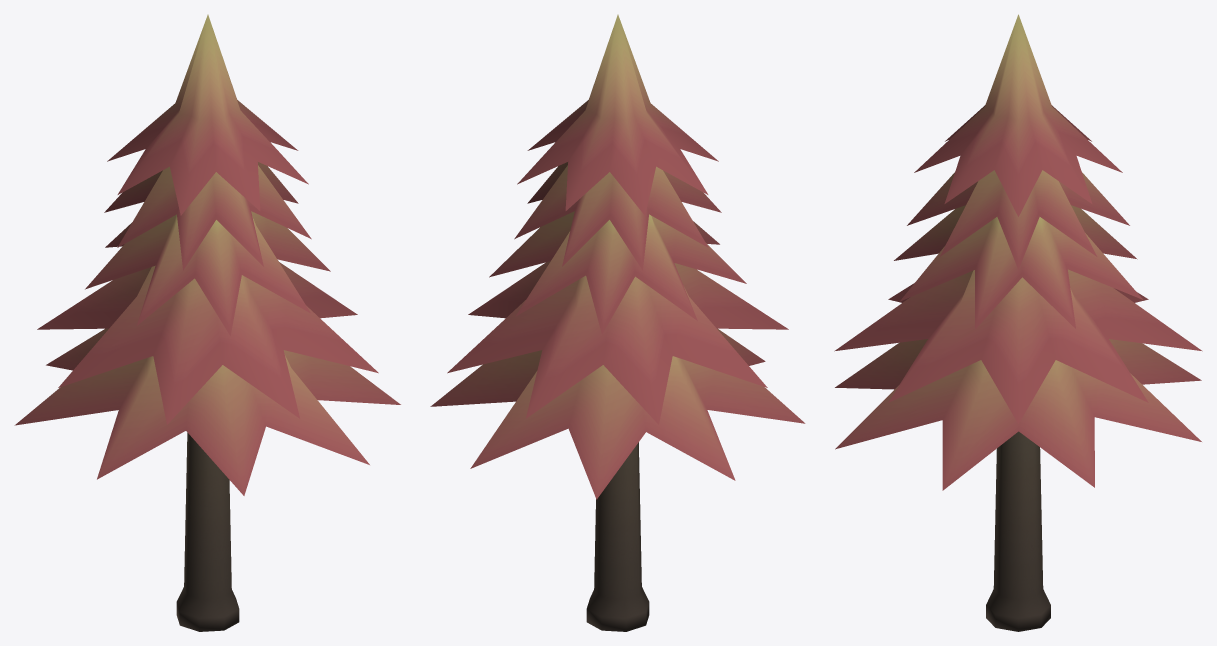
The model's file is Tree_Red_Tall.fbx.
The picture shows the model from 3 angles, left to right: view 1: azimuth 30°, elevation 25°; view 2: azimuth 150°, elevation 25°; view 3: azimuth 270°, elevation 25°; orthographic projection.
Parts seen in each view (by area): view 1: Tree_Red; view 2: Tree_Red; view 3: Tree_Red.
Part boxes in pixels (x1,y1,x2,y2): Tree_Red: (14,14,400,631); Tree_Red: (430,14,805,631); Tree_Red: (834,14,1202,631).
Size of the model in its own units: 2.87 by 5.33 by 2.95.
